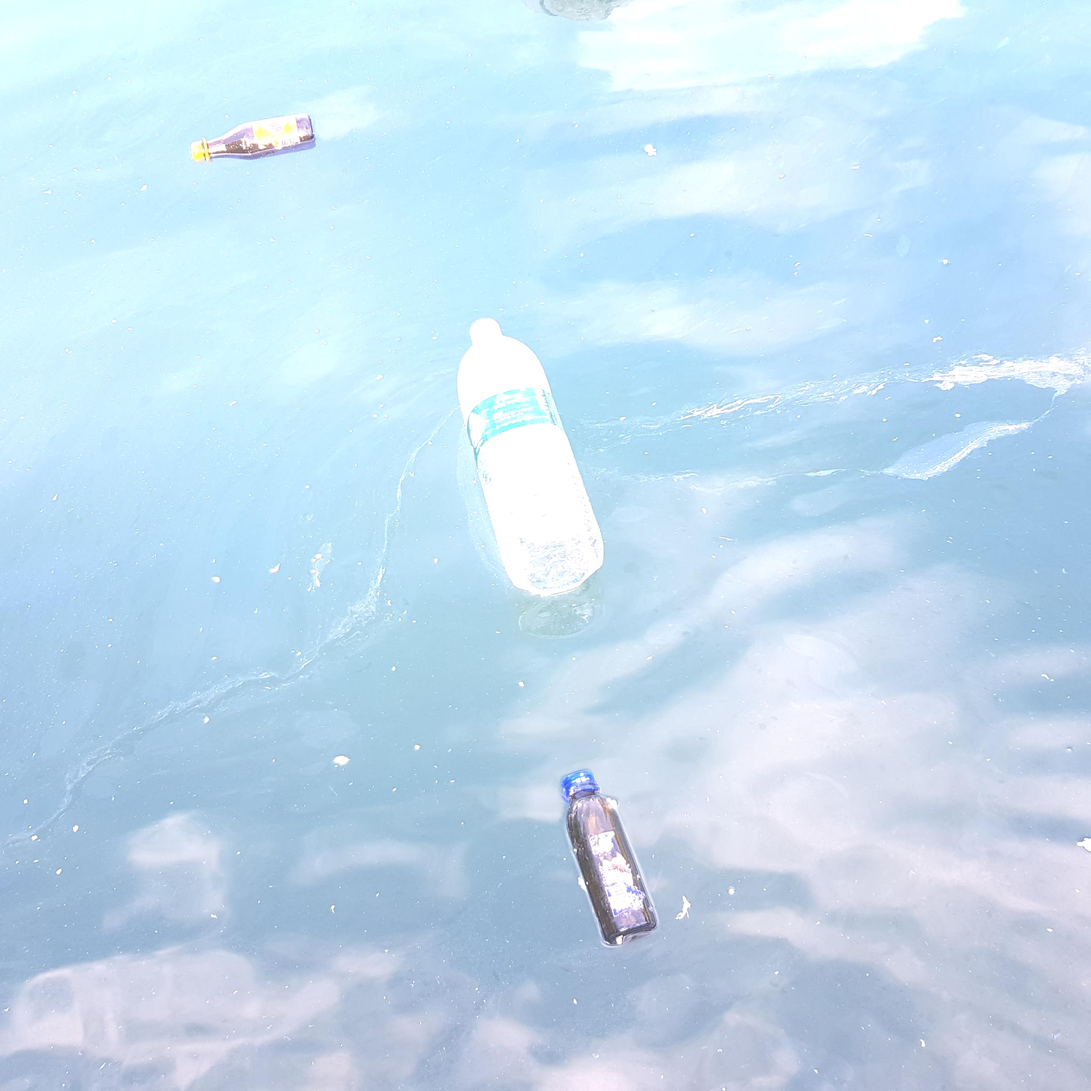sampah_terapung: (458, 319, 605, 596), (561, 771, 658, 947), (191, 113, 316, 162)
